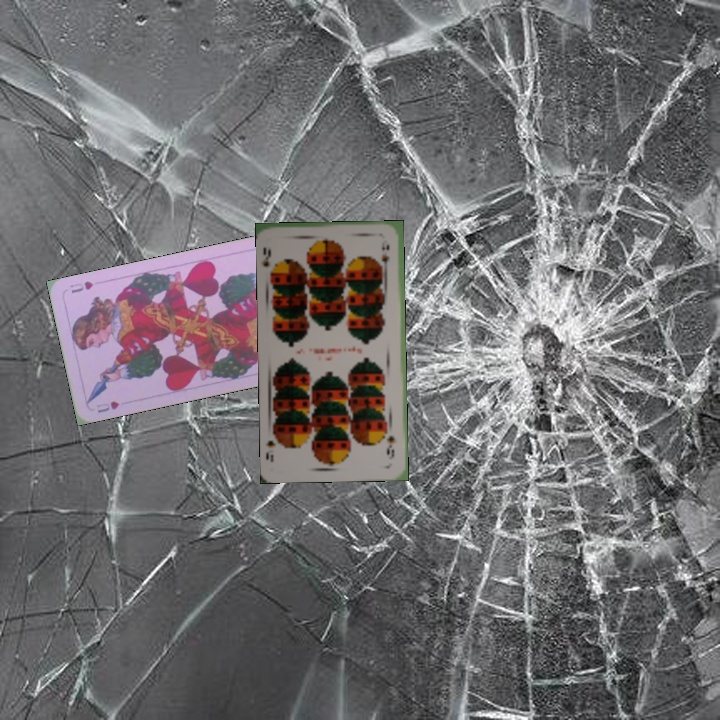HU: (92, 397, 122, 415)
S9: (259, 244, 279, 278), (383, 432, 397, 462)
